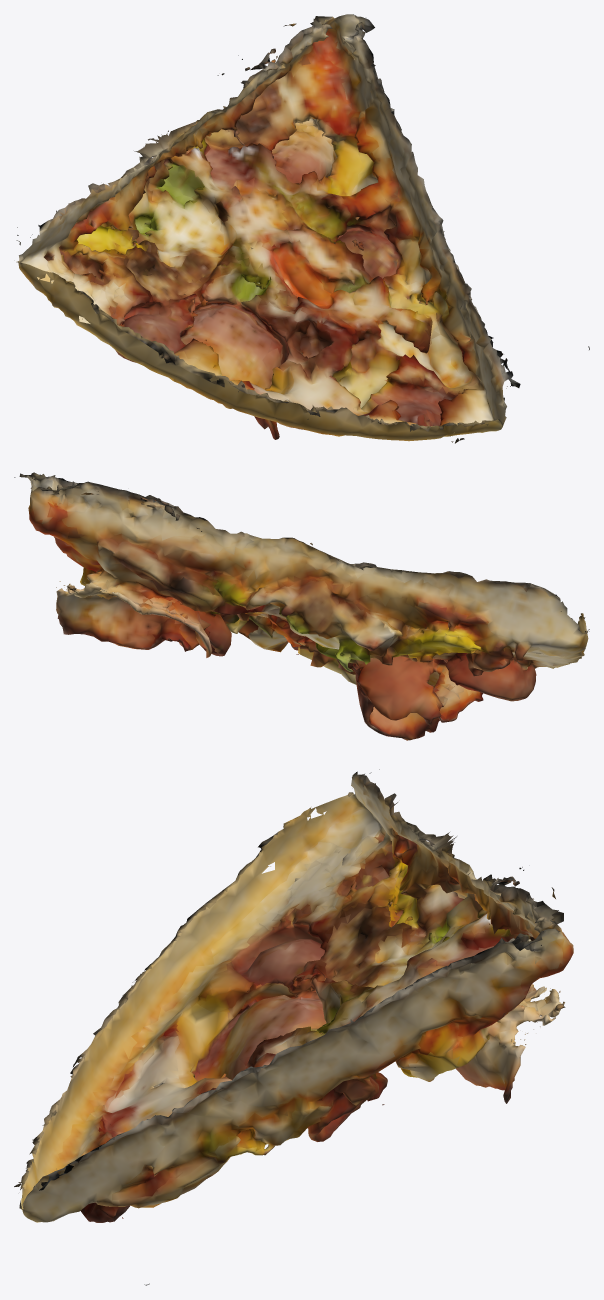
File: pizza_18341.obj
3 renders of one model, top to bottom at view 1: azimuth 30°, elevation 25°; view 2: azimuth 150°, elevation 25°; view 3: azimuth 270°, elevation 25°, orthographic. The views are drawn at different scales.
Bounding box in the file's own units: 1.61 × 0.8472 × 1.27.
Materials: 1 (1 with a texture image).
